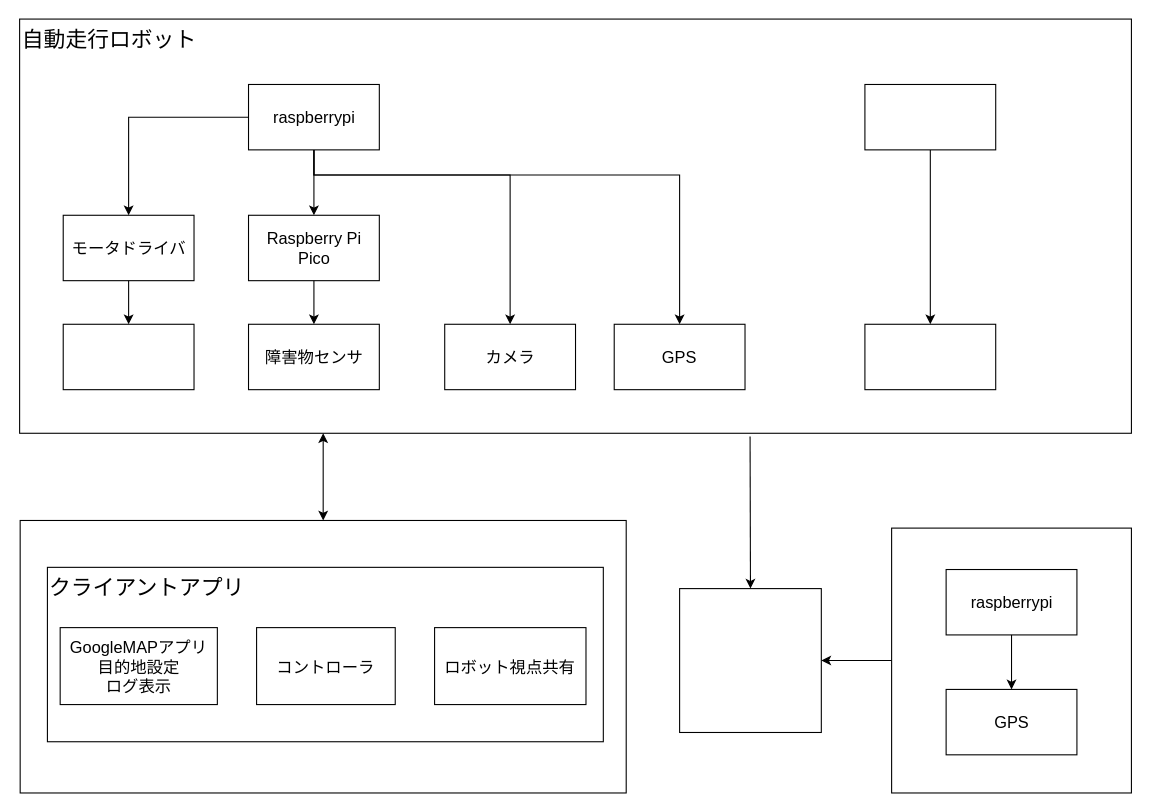
Image size: 1150x812. Some labels were removed from this diagram. Here are the shapes that lost their labels. From the top down, the box of each, then its label:
(864, 83, 996, 150): バッテリ
(62, 323, 194, 390): モータ
(864, 323, 996, 390): 電源回路
(19, 519, 626, 793): サーバ
(679, 588, 821, 732): RTK２GO
(891, 527, 1131, 793): 基準局
